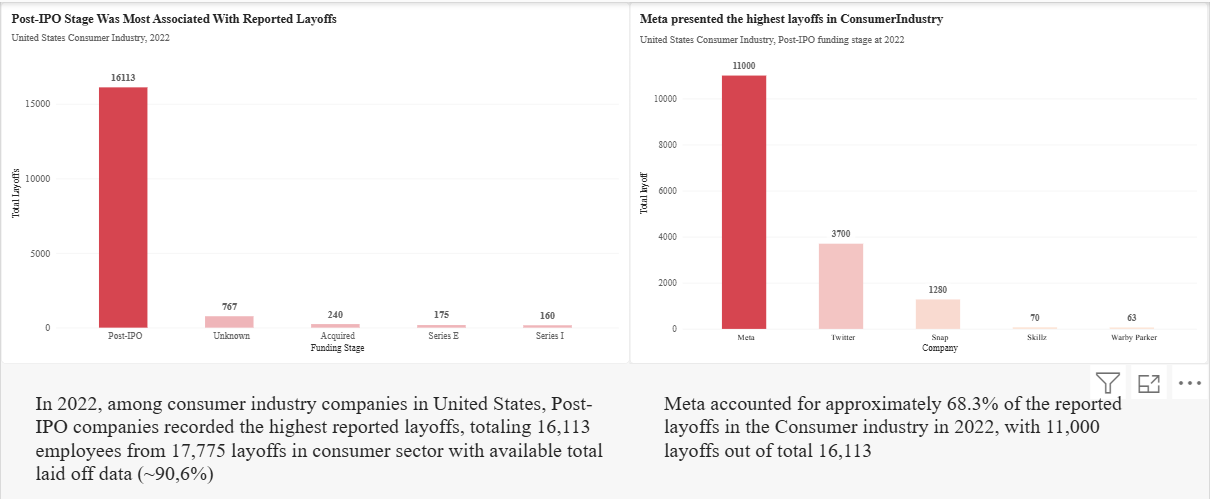

What the dashboard file says about the page in this screenshot:
{"tool":"powerbi","page":{"name":"Page 3","canvas":[1920,1080],"ordinal":2},"visuals":[{"type":"lineClusteredColumnComboChart","title":"Meta presented the highest layoffs in ConsumerIndustry","fields":{"Category":["cleaned_layoffs_dataset.company"],"Y":["Sum(cleaned_layoffs_dataset.total_laid_off)"]},"box":[1000,0,920,575],"z":0},{"type":"lineClusteredColumnComboChart","title":"Post-IPO Stage Was Most Associated With Reported Layoffs","fields":{"Category":["cleaned_layoffs_dataset.stage"],"Y":["Sum(cleaned_layoffs_dataset.total_laid_off)"]},"box":[0,0,1000,575],"z":1000},{"type":"textbox","box":[1055,620,732,128],"z":1001},{"type":"textbox","box":[55,620,905,235],"z":1002}]}

Visuals, with their boxes on the page's 1920x1080 design canvas (x1, y1, x2, y2). These are canvas units, not pixel positions in the 1210x499 screenshot, which may show the page scaled, cropped or inside an application window:
"Meta presented the highest layoffs in ConsumerIndustry" lineClusteredColumnComboChart: 1000:0:1920:575
"Post-IPO Stage Was Most Associated With Reported Layoffs" lineClusteredColumnComboChart: 0:0:1000:575
textbox: 1055:620:1787:748
textbox: 55:620:960:855
